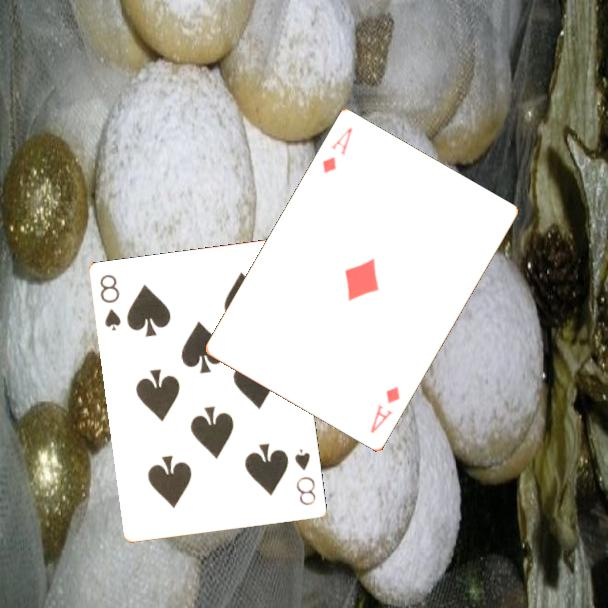d01: (319, 124, 356, 177), (367, 383, 403, 437)
s08: (291, 446, 319, 508), (97, 271, 124, 333)
